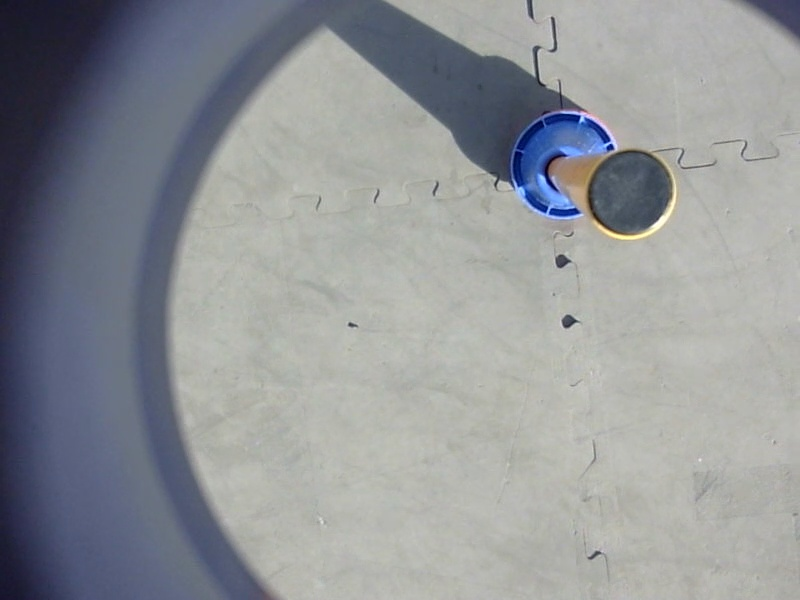tip: (579, 144, 682, 246)
